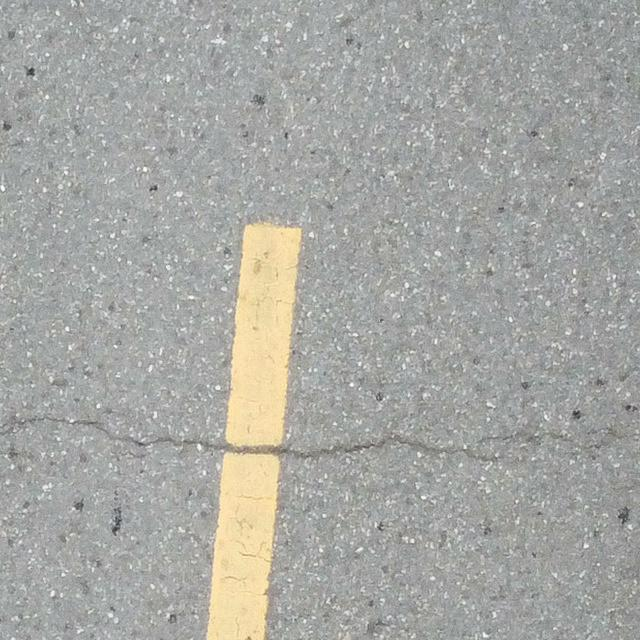TransverseCrack: (2, 410, 573, 461)
